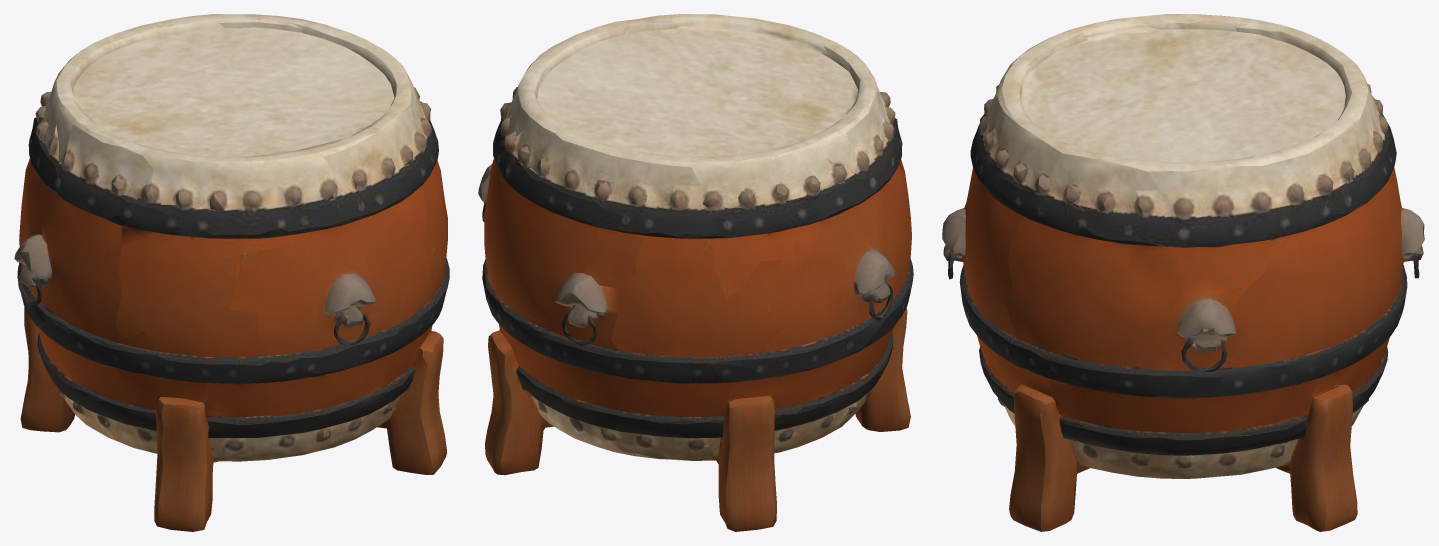
The model's file is lg-war-drum.glb.
3 views of the same model, side by side, from view 1: azimuth 30°, elevation 25°; view 2: azimuth 150°, elevation 25°; view 3: azimuth 270°, elevation 25° (orthographic). The views are drawn at different scales.
Parts seen in each view (by area): view 1: geometry_0; view 2: geometry_0; view 3: geometry_0.
Boxes of the visible parts, left/top/right/bottom form: geometry_0: left=14, top=14, right=449, bottom=531; geometry_0: left=478, top=14, right=913, bottom=531; geometry_0: left=942, top=14, right=1424, bottom=531.
Size of the model in its own units: 1 by 0.8458 by 0.998.
1 material, 1 textured.
